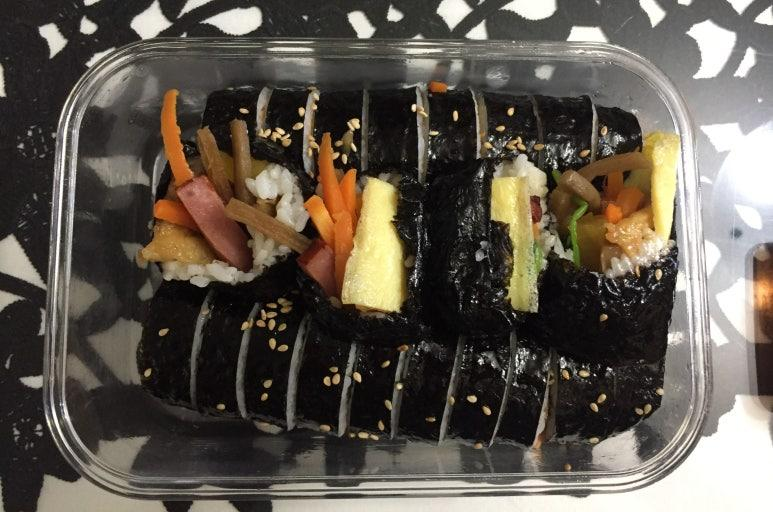Lunch Box: (44, 39, 710, 498)
